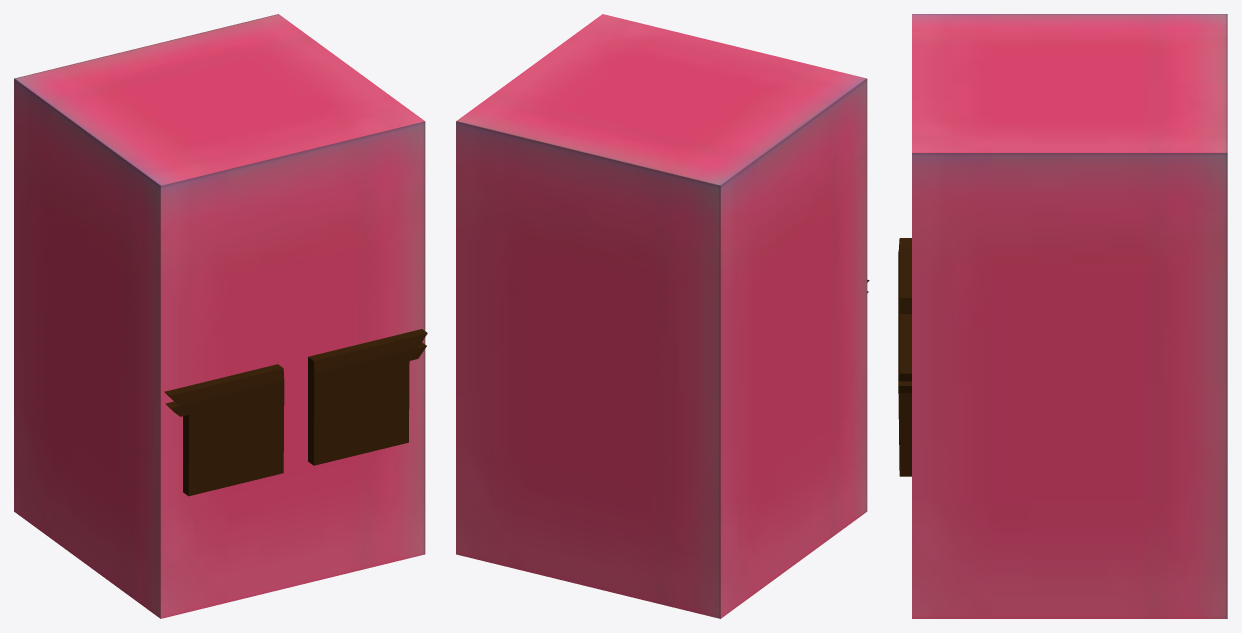
File: archer.fbx
The picture shows the model from 3 angles, left to right: view 1: azimuth 30°, elevation 25°; view 2: azimuth 150°, elevation 25°; view 3: azimuth 270°, elevation 25°; orthographic projection. The views are drawn at different scales.
Visible parts, largest first — view 1: archer, archer_eyes; view 2: archer; view 3: archer, archer_eyes.
Part boxes in pixels (x1,y1,x2,y2): archer: [14, 14, 425, 618]; archer_eyes: [164, 329, 427, 496]; archer: [456, 14, 867, 618]; archer: [912, 14, 1227, 618]; archer_eyes: [898, 238, 911, 476].
Bounding box in the file's own units: 44.74 × 70 × 44.81.
Materials: 2 (1 with a texture image).
